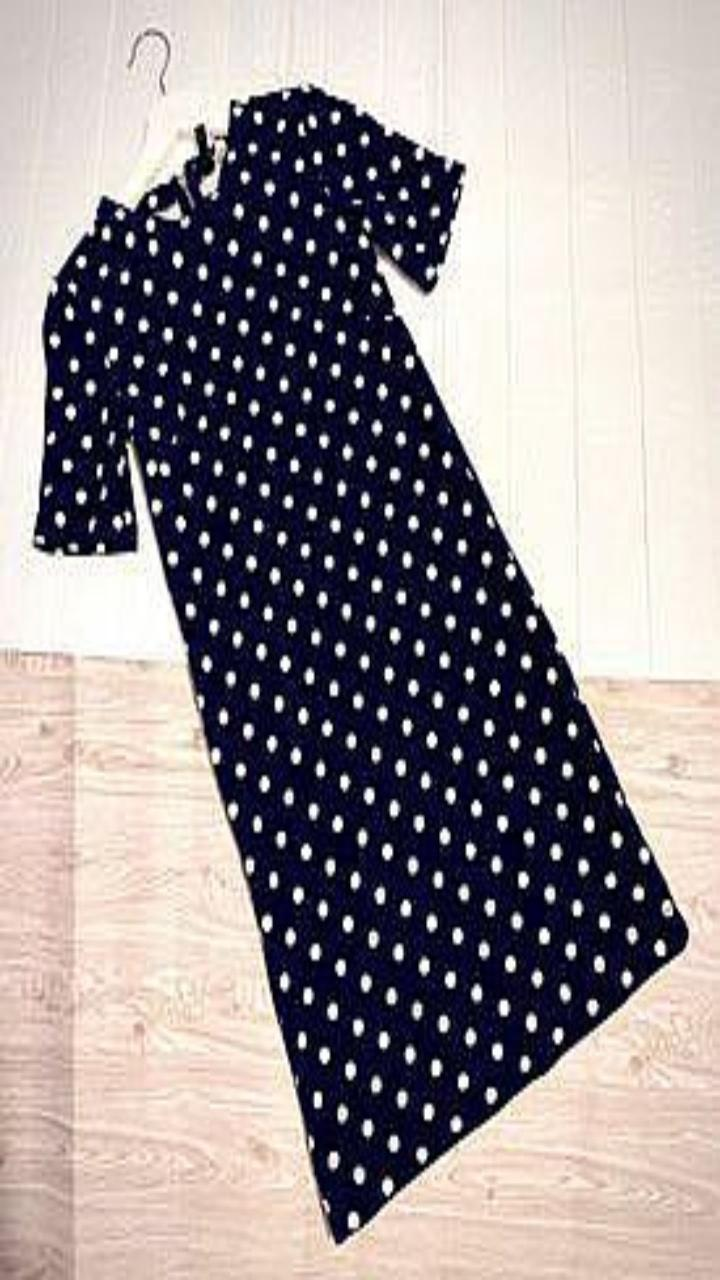Dresses: (34, 82, 688, 1241)
